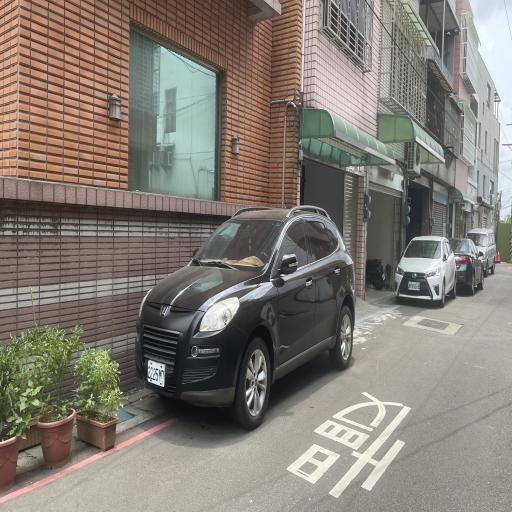MIU: (134, 362, 255, 443)
car: (128, 188, 361, 438), (385, 218, 459, 318)
redline: (0, 400, 182, 512)
